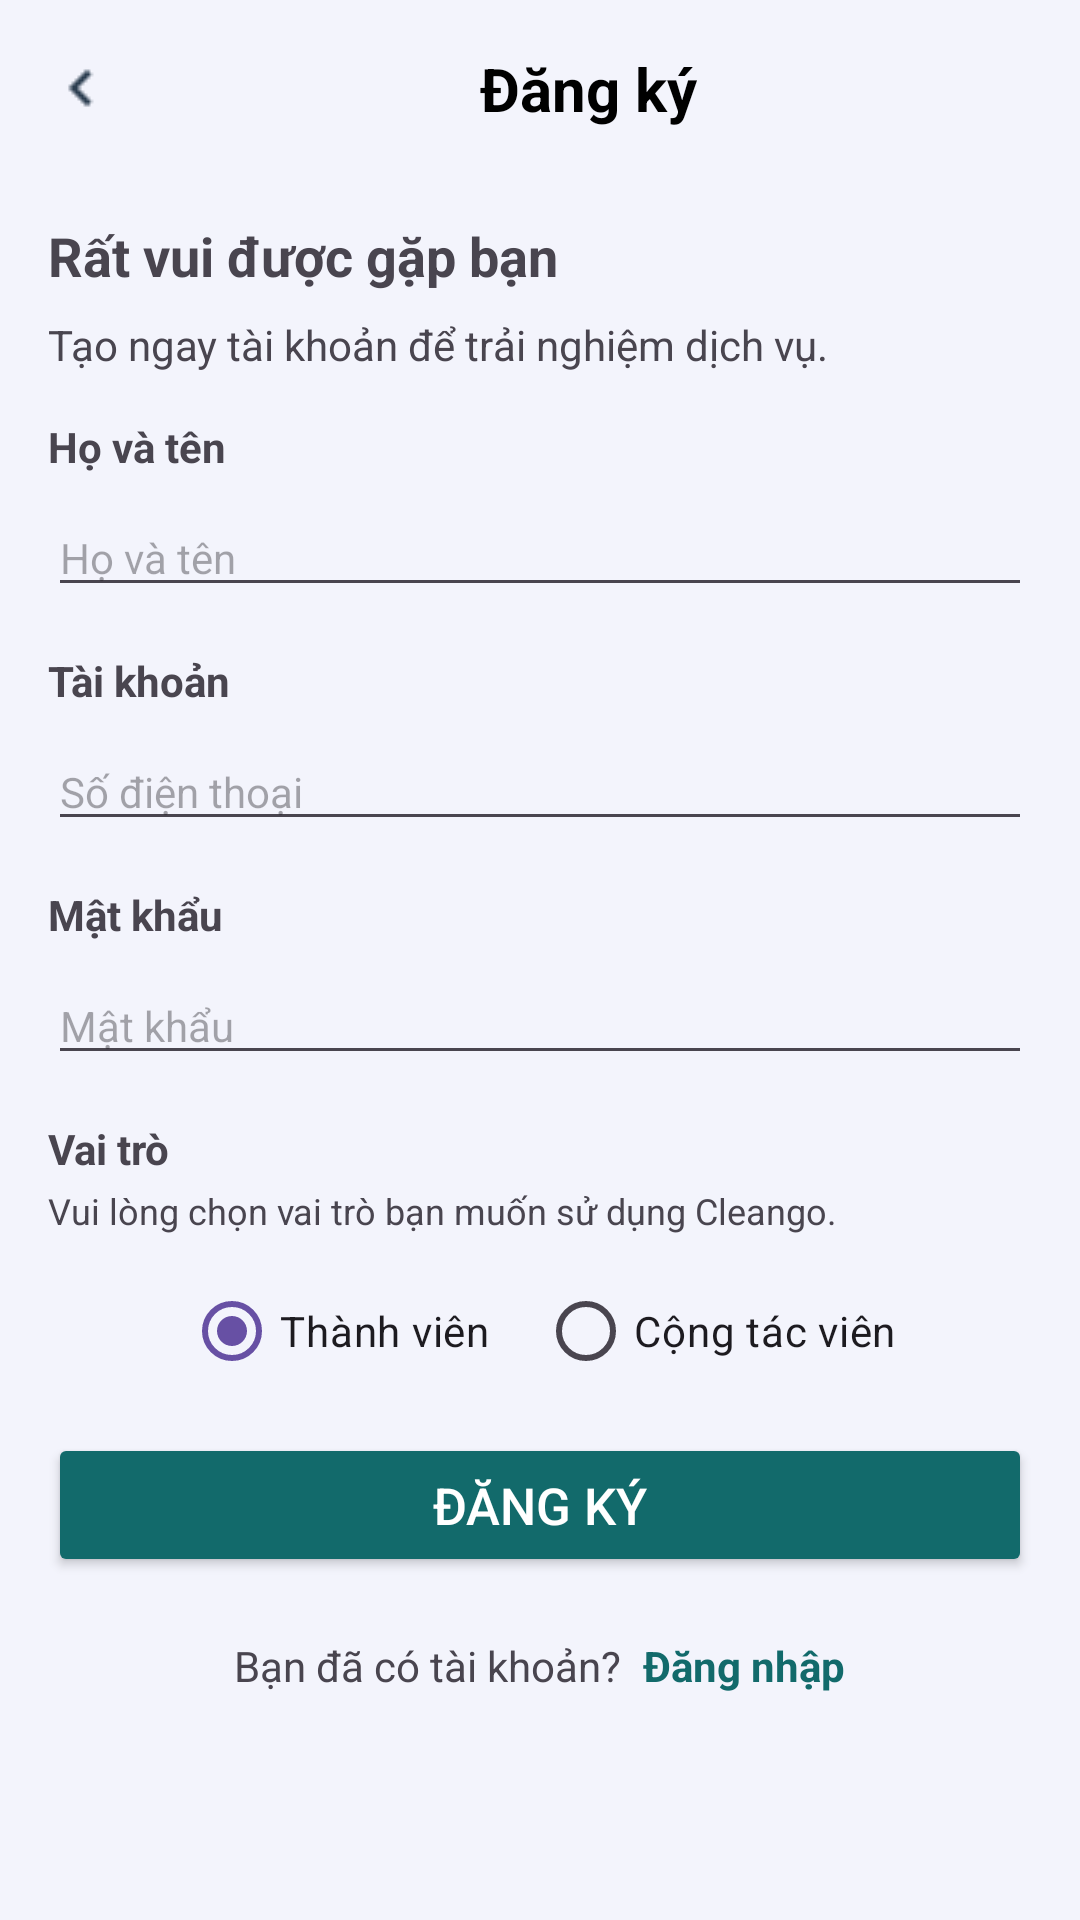

Screen size 1080 x 1920. Icon name, then its box in pixels as (x1, y1, x2, y2):
Back: (68, 69, 93, 107)
